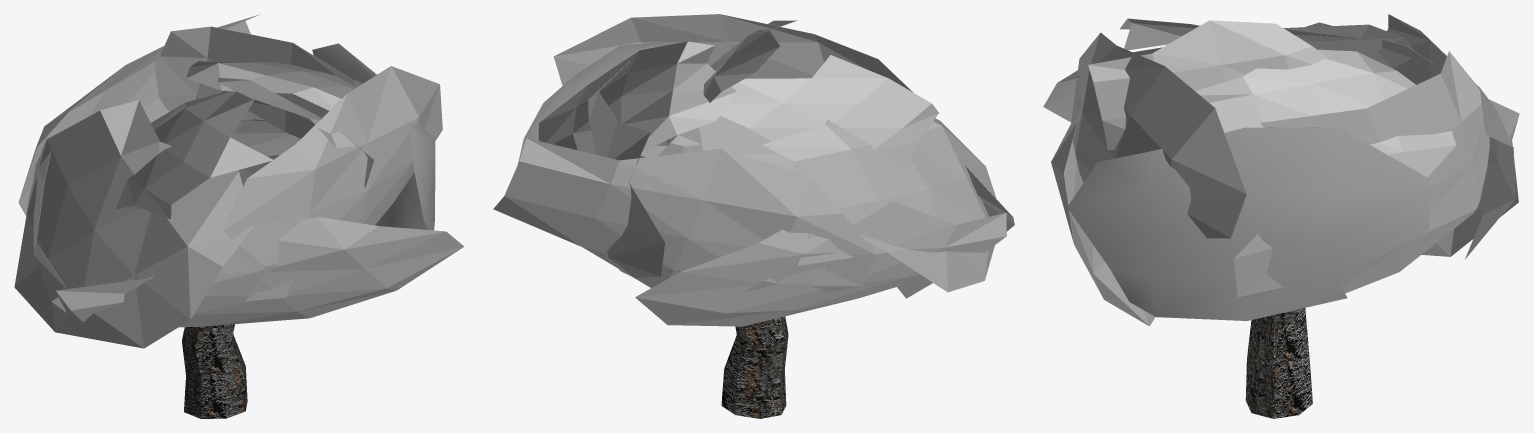
File: arbol-blanco.fbx
3 views of the same model, side by side, from view 1: azimuth 30°, elevation 25°; view 2: azimuth 150°, elevation 25°; view 3: azimuth 270°, elevation 25° (orthographic). The views are drawn at different scales.
Visible parts, largest first — view 1: blanco; view 2: blanco; view 3: blanco.
Part boxes in pixels (x1,y1,x2,y2): blanco: [14, 14, 464, 418]; blanco: [493, 14, 1014, 418]; blanco: [1043, 14, 1519, 418].
Bounding box in the file's own units: 16.79 × 14.23 × 12.69.
